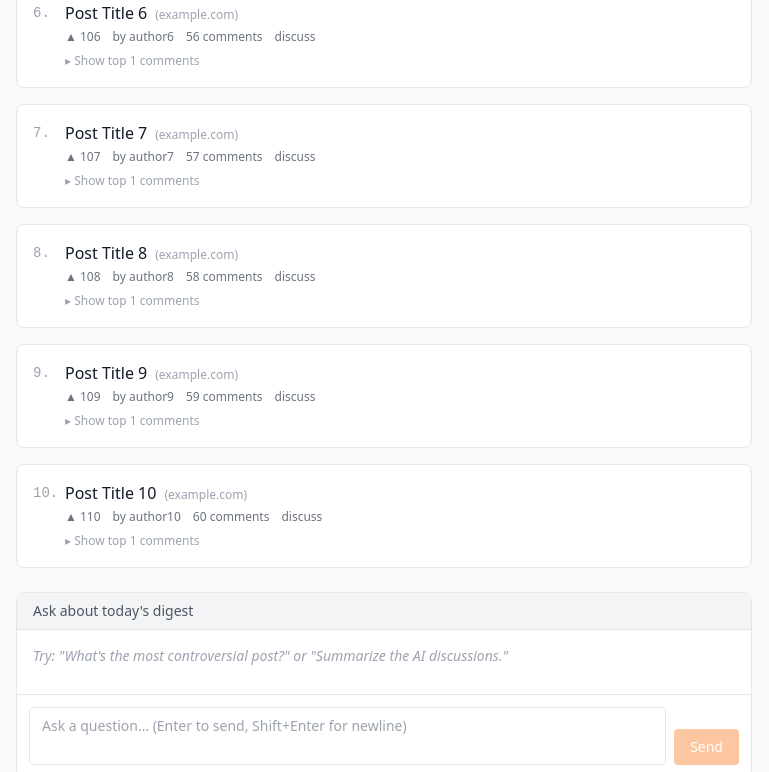
Test: ChatBox (via DigestClient) › displays the user message in the chat after submit
(page scrolled)
Type "What is the top post?" into the text box with placeholder "Ask a question… (Enter to send, Shift+Enter for newline)" at (348, 736), box [29, 707, 666, 765]
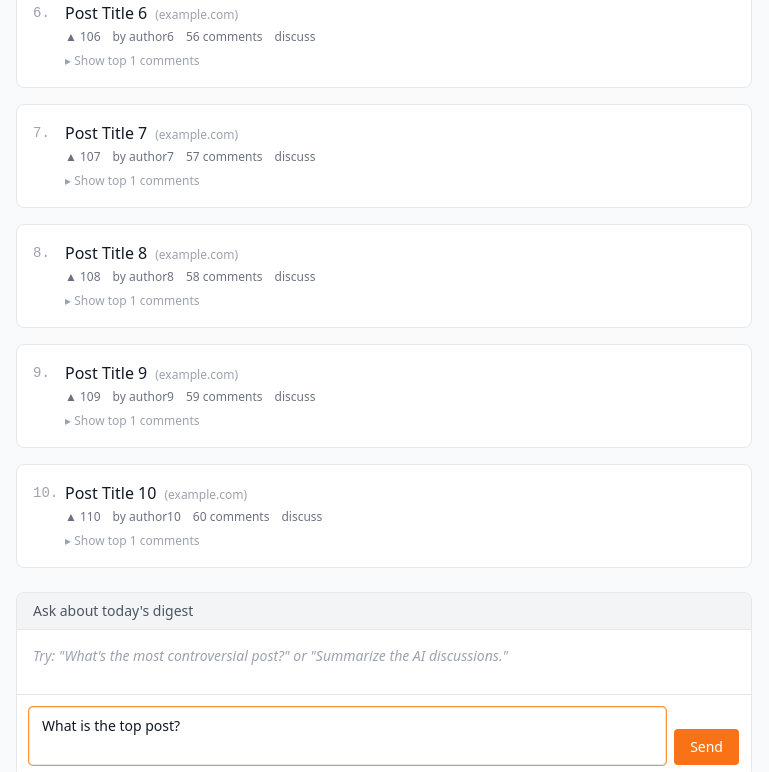
Click the button "Send" at (707, 747), box [674, 729, 739, 765]
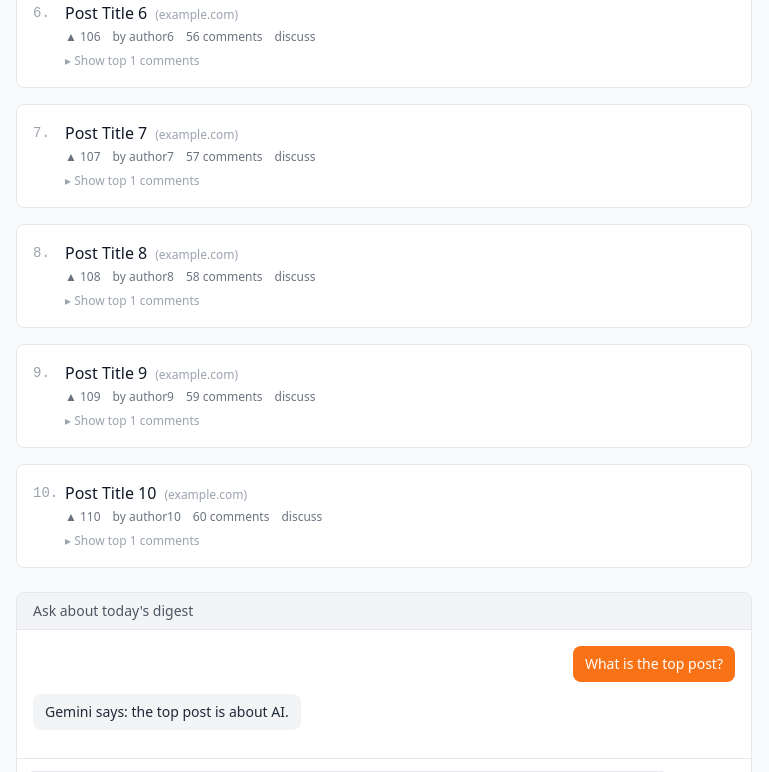
Expected: the text "What is the top post?" is shown, [573, 646, 735, 682]
